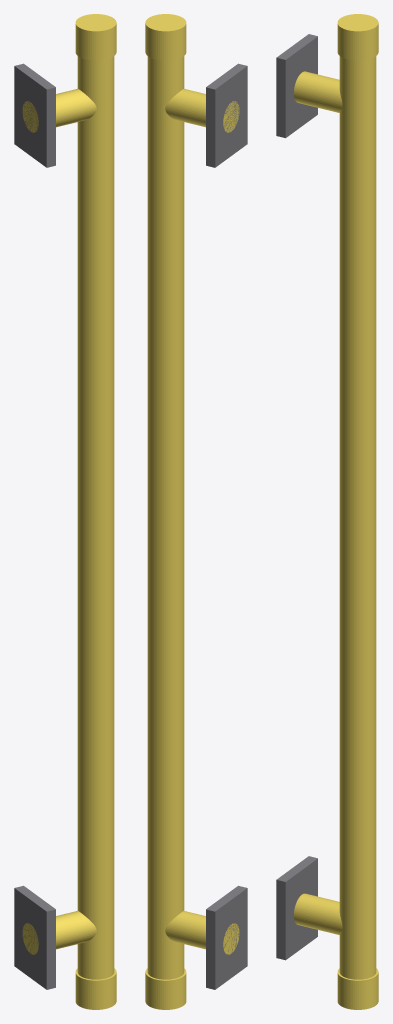
Rendered from struct03_ladder_handrail_handrail_1.glb.
The picture shows the model from 3 angles, left to right: view 1: azimuth 30°, elevation 25°; view 2: azimuth 150°, elevation 25°; view 3: azimuth 330°, elevation 25°; orthographic projection.
Parts seen in each view (by area): view 1: handrail, mount_pads, standoffs; view 2: handrail, mount_pads, standoffs; view 3: handrail, mount_pads, standoffs.
Boxes of the visible parts, <box> form: handrail: <box>75,14,116,1009</box>; mount_pads: <box>14,63,55,989</box>; standoffs: <box>22,88,96,954</box>; handrail: <box>145,14,186,1009</box>; mount_pads: <box>206,63,247,989</box>; standoffs: <box>165,88,239,954</box>; handrail: <box>337,14,378,1009</box>; mount_pads: <box>276,34,317,960</box>; standoffs: <box>294,71,342,934</box>.
Bounding box in the file's own units: 0.089 × 1 × 0.06.
